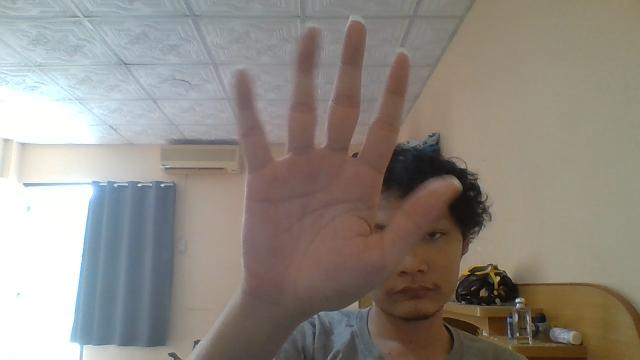Stop: (230, 14, 412, 316)
